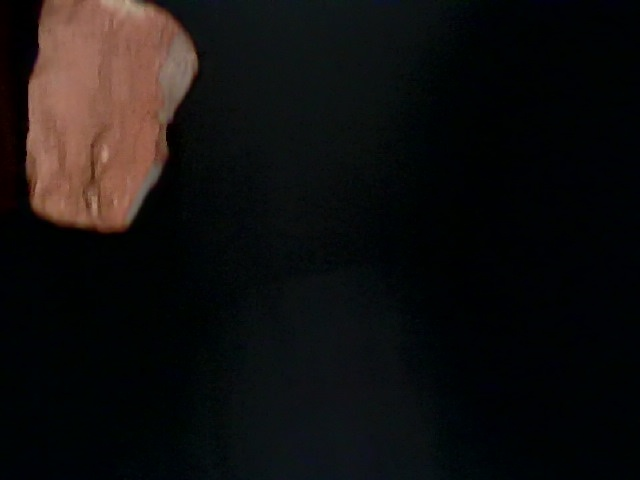KHSLJ: (1, 257, 286, 477)
